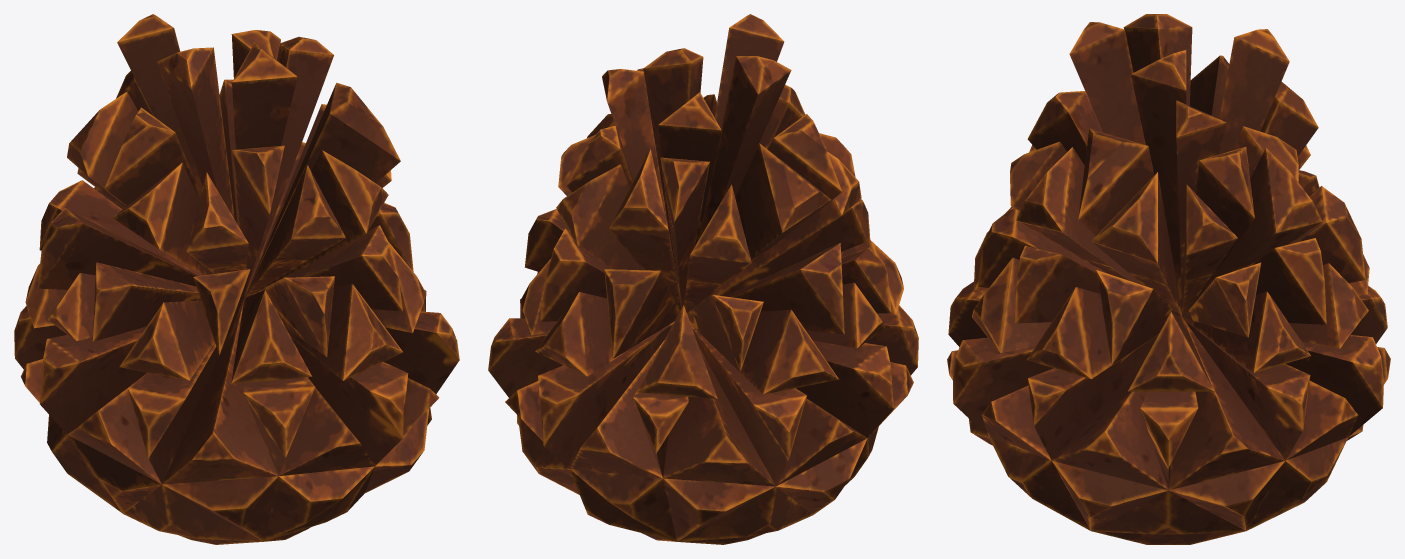
File: pinecone.fbx
The picture shows the model from 3 angles, left to right: view 1: azimuth 30°, elevation 25°; view 2: azimuth 150°, elevation 25°; view 3: azimuth 270°, elevation 25°; orthographic projection. The views are drawn at different scales.
Parts seen in each view (by area): view 1: Icosphere; view 2: Icosphere; view 3: Icosphere.
Part boxes in pixels (<box>): Icosphere: <box>14,14,459,544</box>; Icosphere: <box>488,14,918,544</box>; Icosphere: <box>947,14,1390,544</box>.
Size of the model in its own units: 410 by 512 by 412.
